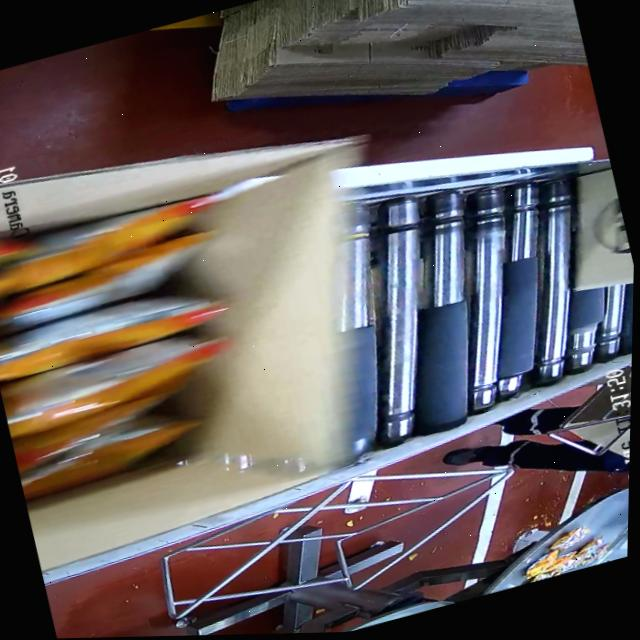FRENCH_CHEESE: (0, 191, 278, 510)
